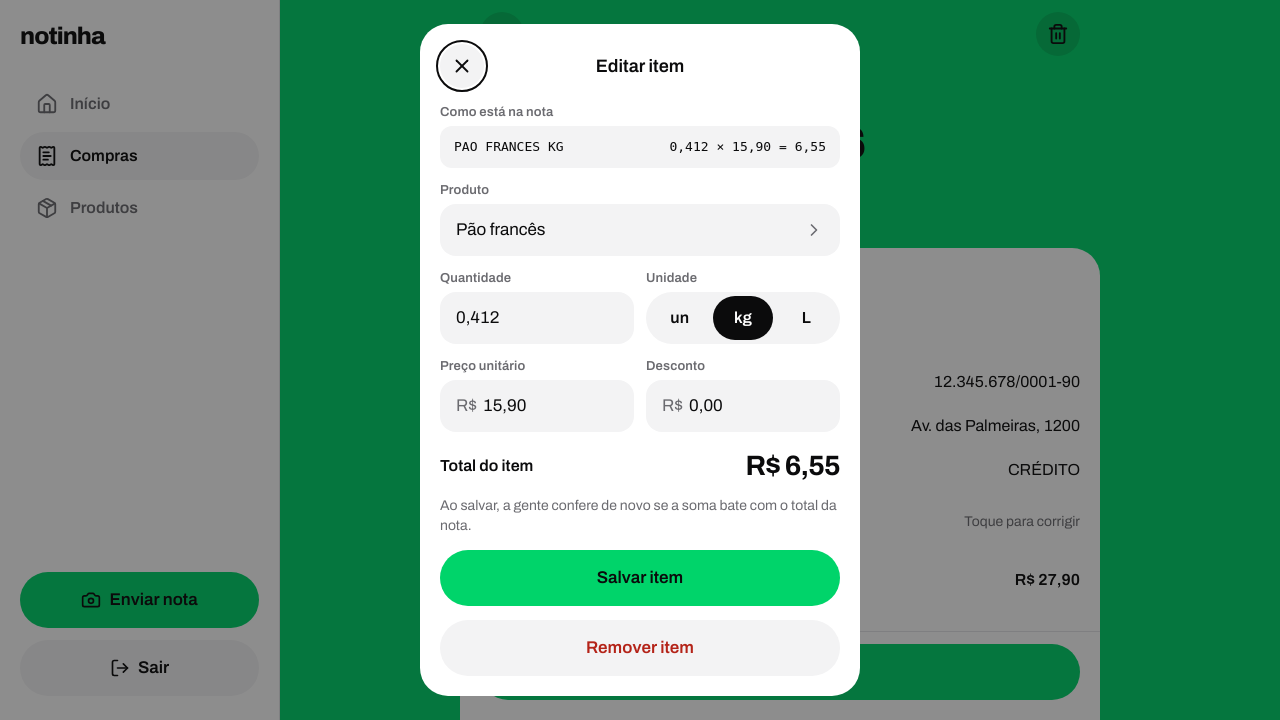
Test: correcting items › Escape in the picker goes back to the form, keeping the sheet open
The width and height of the screenshot is (1280, 720).
Later steps or results of the test are not shown.
Click the button named "Produto Pão francês". click: (501, 230)
box: [440,204,840,256]
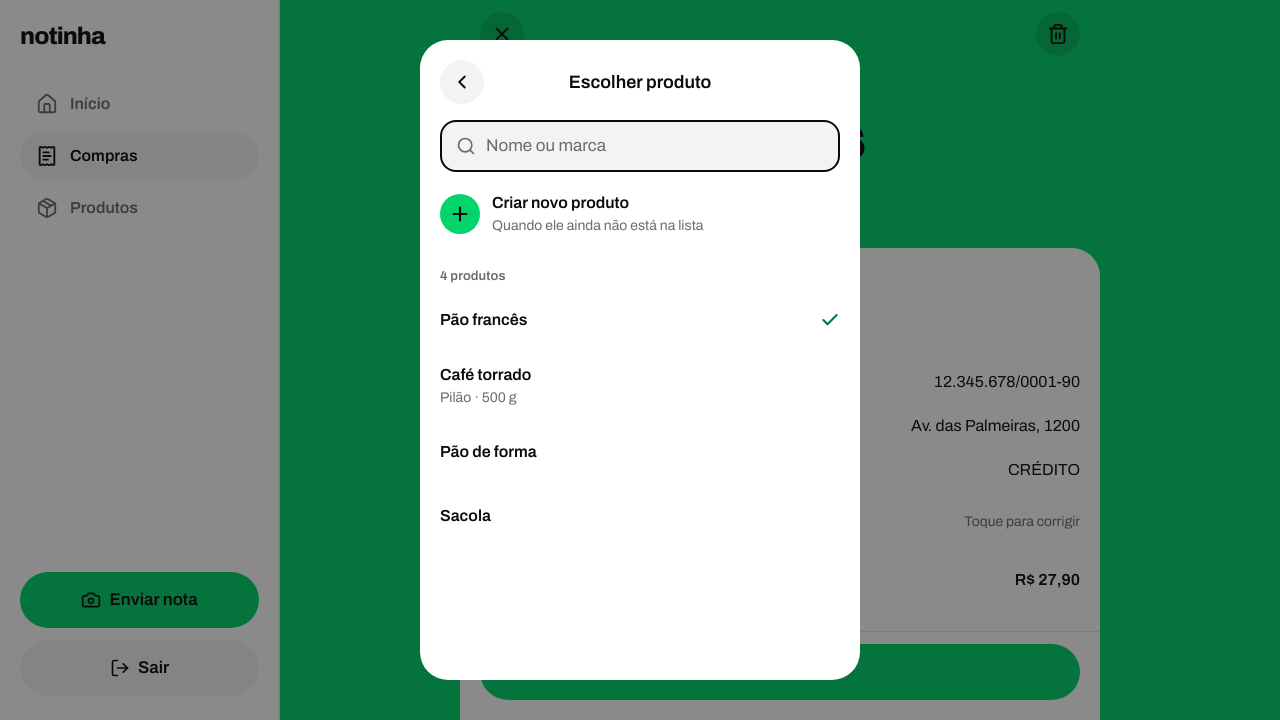
expect the dropdown named "Buscar produto" is shown: met, box [486,135,824,157]
